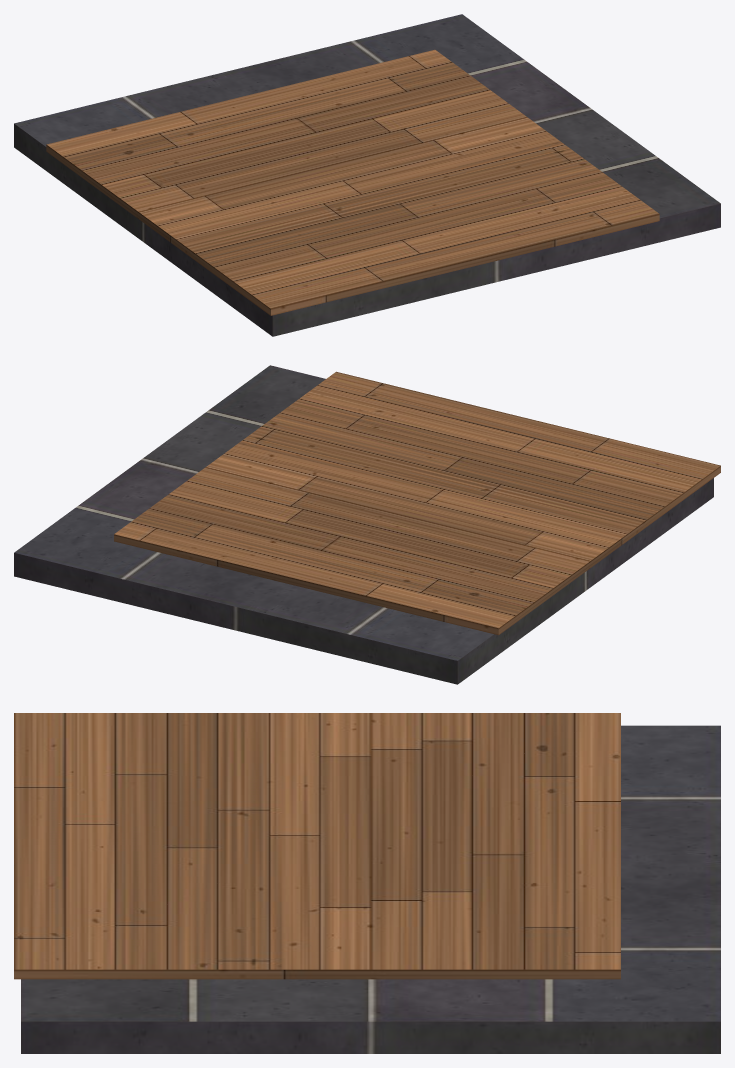
The model's file is floor_floor_g_e0110.glb.
3 views of the same model, one above another, from view 1: azimuth 30°, elevation 25°; view 2: azimuth 150°, elevation 25°; view 3: azimuth 270°, elevation 25° (orthographic). The views are drawn at different scales.
Parts seen in each view (by area): view 1: floor_floor_g_e0110_floor, floor_floor_g_e0110_plinth; view 2: floor_floor_g_e0110_floor, floor_floor_g_e0110_plinth; view 3: floor_floor_g_e0110_floor, floor_floor_g_e0110_plinth.
Boxes of the visible parts, box(x1,y1,x2,y2) form: floor_floor_g_e0110_floor: box(46, 49, 659, 315); floor_floor_g_e0110_plinth: box(14, 14, 720, 336); floor_floor_g_e0110_floor: box(114, 371, 720, 635); floor_floor_g_e0110_plinth: box(14, 365, 713, 684); floor_floor_g_e0110_floor: box(14, 713, 620, 979); floor_floor_g_e0110_plinth: box(21, 725, 720, 1053).
Size of the model in its own units: 1.98 by 0.13 by 1.98.
2 materials, 2 textured.
